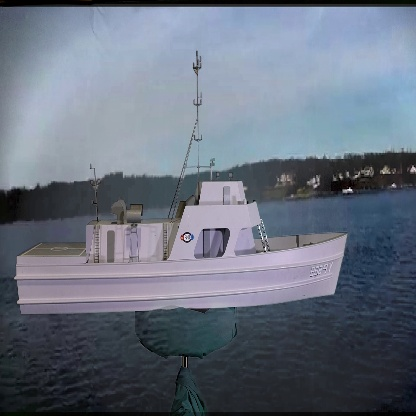YP689: (14, 47, 347, 318)
